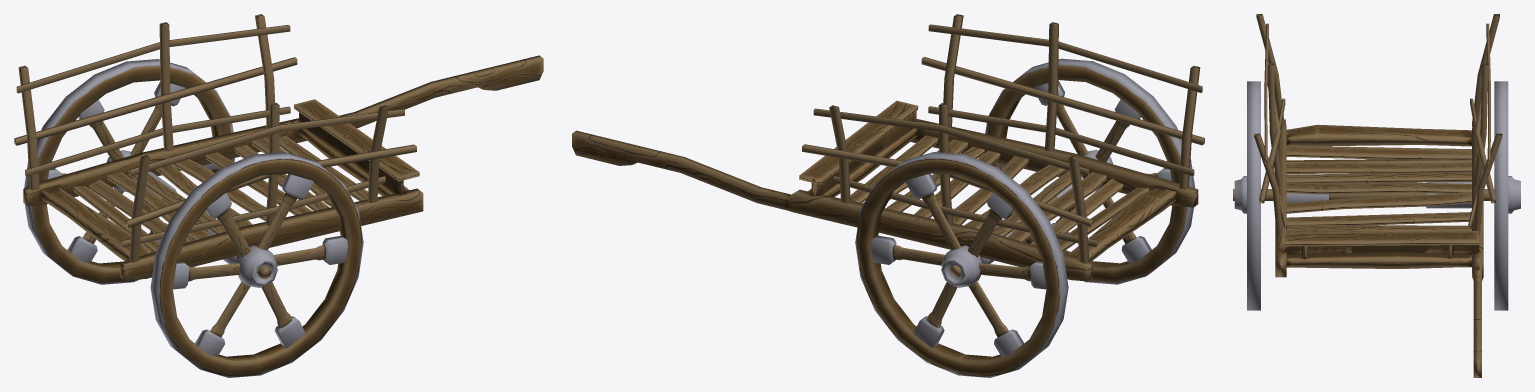
The model's file is Charette_L.fbx.
3 views of the same model, side by side, from view 1: azimuth 30°, elevation 25°; view 2: azimuth 150°, elevation 25°; view 3: azimuth 270°, elevation 25° (orthographic). The views are drawn at different scales.
Visible parts, largest first — view 1: polySurface705; view 2: polySurface705; view 3: polySurface705.
Part boxes in pixels (x1,y1,x2,y2): polySurface705: [14, 14, 543, 377]; polySurface705: [572, 14, 1204, 377]; polySurface705: [1233, 14, 1520, 377].
Bounding box in the file's own units: 516 × 241 × 254.
1 material, 1 textured.
